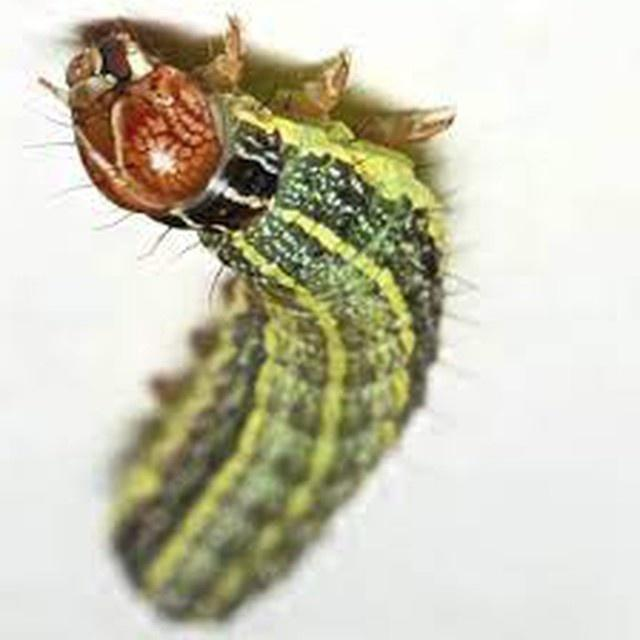gusano_cogollero: (66, 26, 446, 616)
